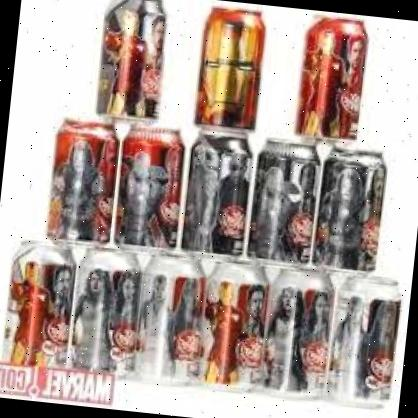can: (320, 274, 402, 410), (292, 10, 374, 143), (188, 0, 269, 133), (309, 143, 390, 274), (112, 120, 189, 255), (66, 244, 143, 376), (42, 111, 118, 244), (0, 240, 73, 377), (132, 250, 206, 384), (94, 0, 171, 128), (246, 137, 322, 266), (180, 128, 254, 258), (260, 267, 332, 396), (199, 259, 266, 388)
